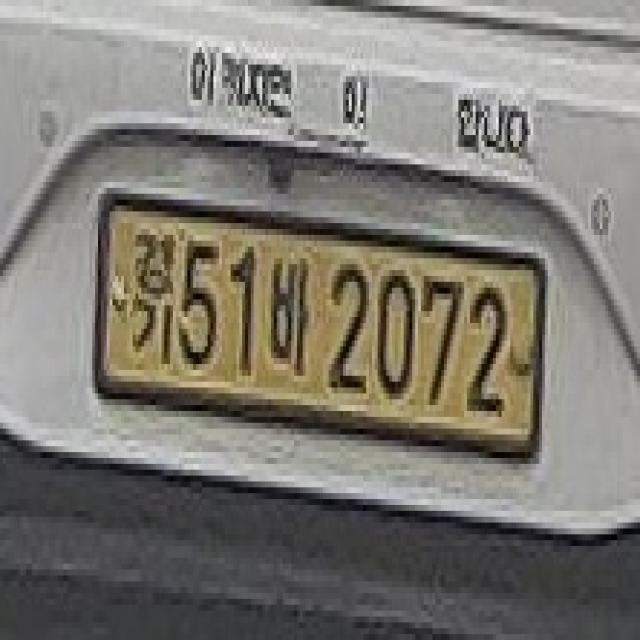plat: (93, 190, 546, 455)
